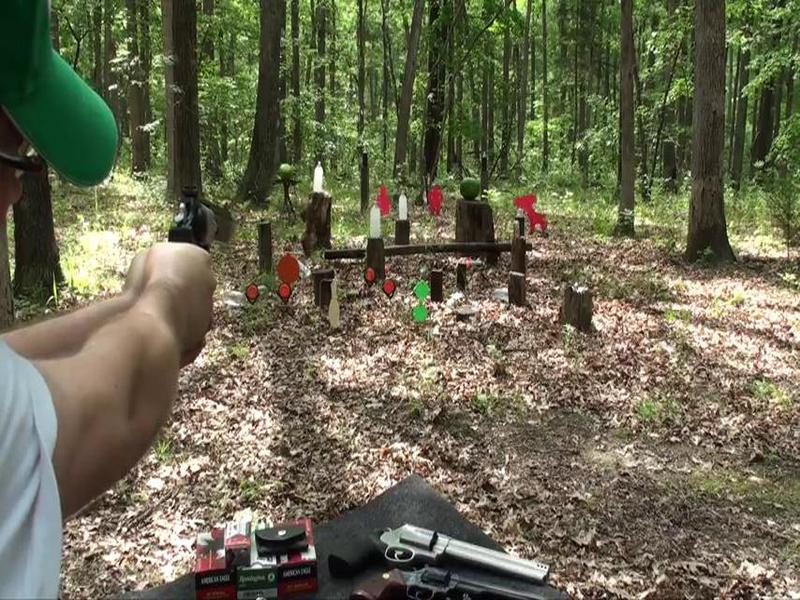Revolver: (162, 183, 246, 284)
